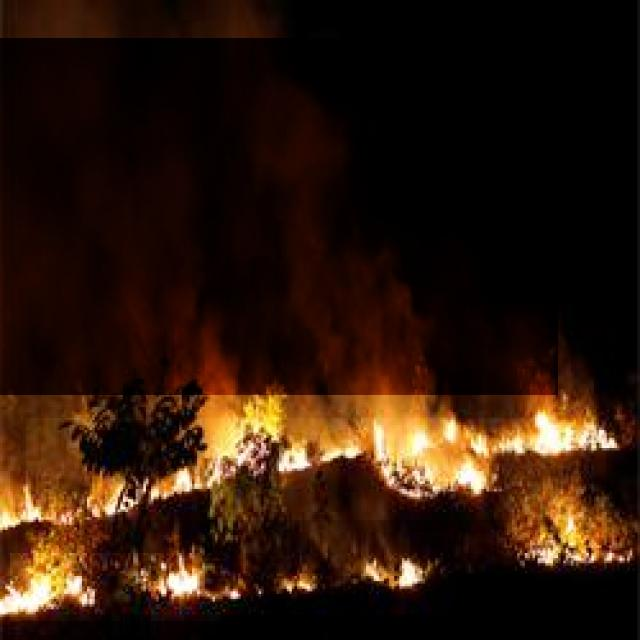Fire: (26, 418, 606, 520), (10, 553, 230, 621)
Smoke: (0, 38, 558, 395)
